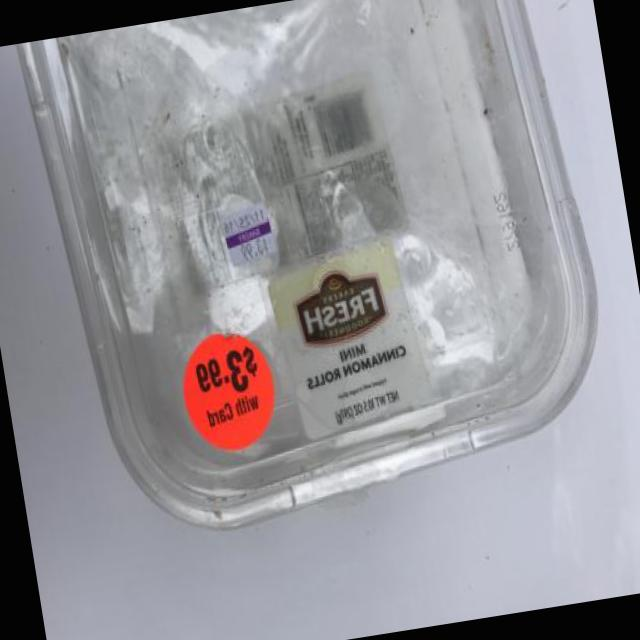plastic: (18, 0, 595, 527)
